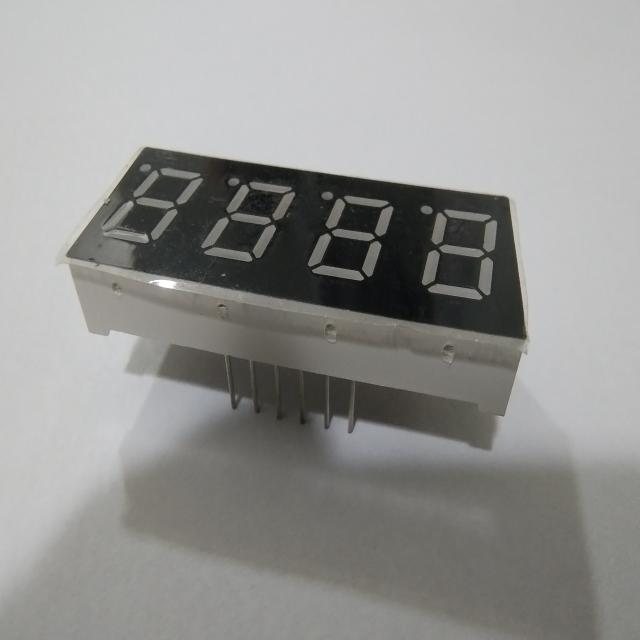7_segments_4_digits: (54, 138, 536, 449)
